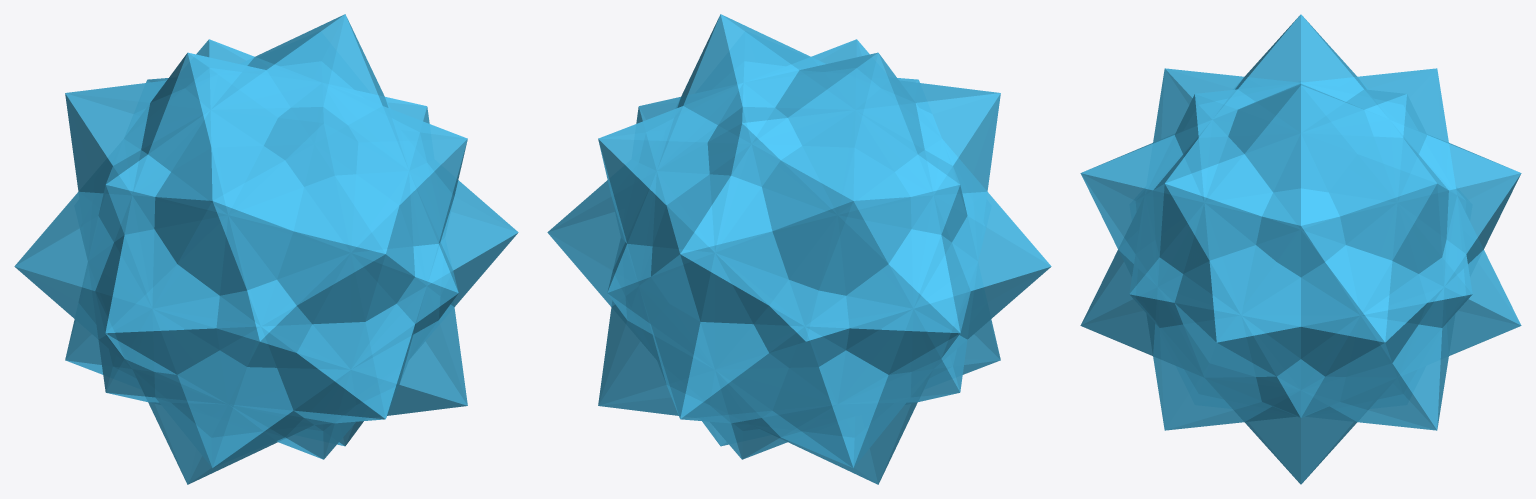
File: MedialIcosacronicHexecontahedron.obj
3 renders of one model, left to right at view 1: azimuth 30°, elevation 25°; view 2: azimuth 150°, elevation 25°; view 3: azimuth 270°, elevation 25°, orthographic. The views are drawn at different scales.
Size of the model in its own units: 3.24 by 3.24 by 3.24.
